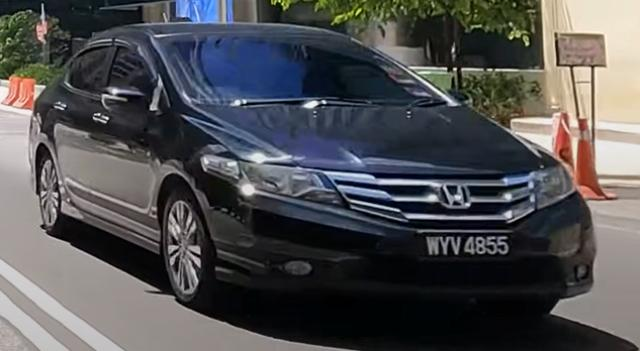License_Plate: (421, 232, 514, 260)
car: (28, 21, 599, 320)
